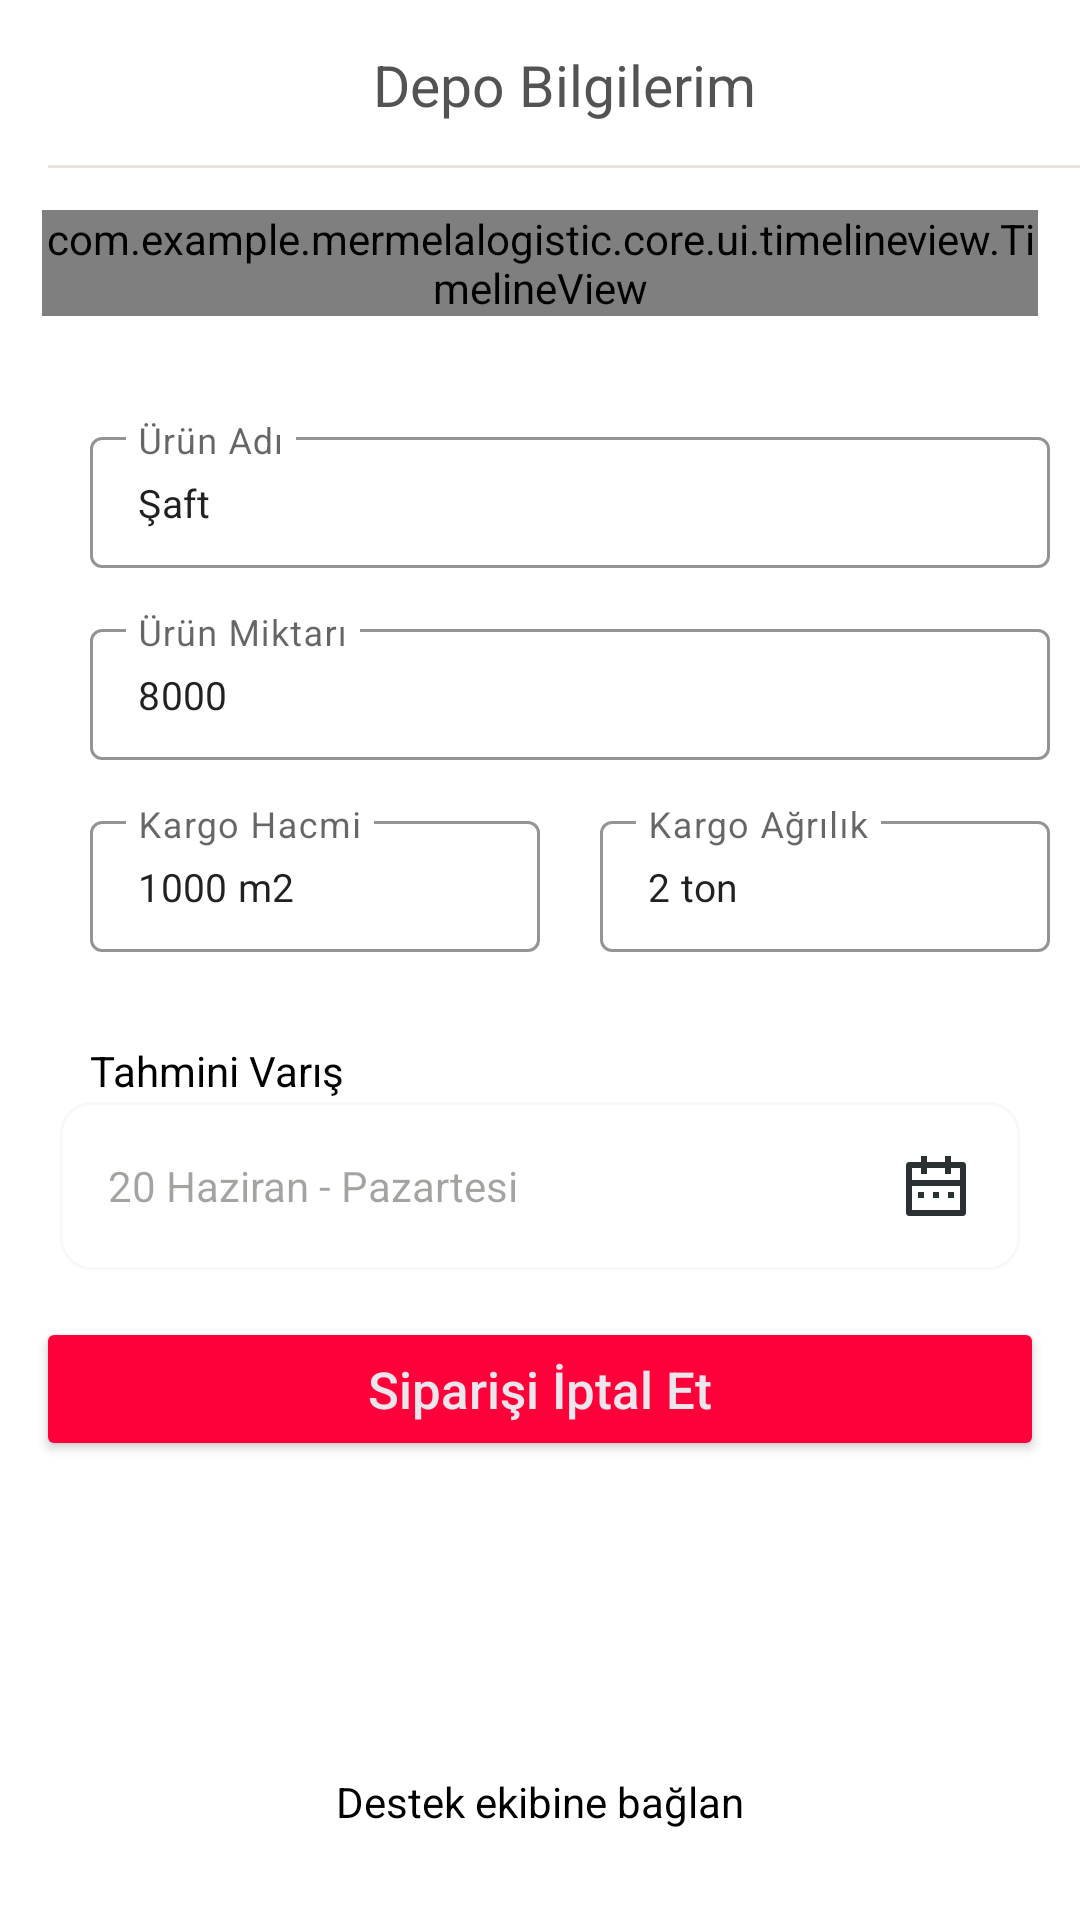

Icons on this 1080×1920 Android screen, each with the point to tap as (x=x, y=y):
calendar: (x=936, y=1186)
